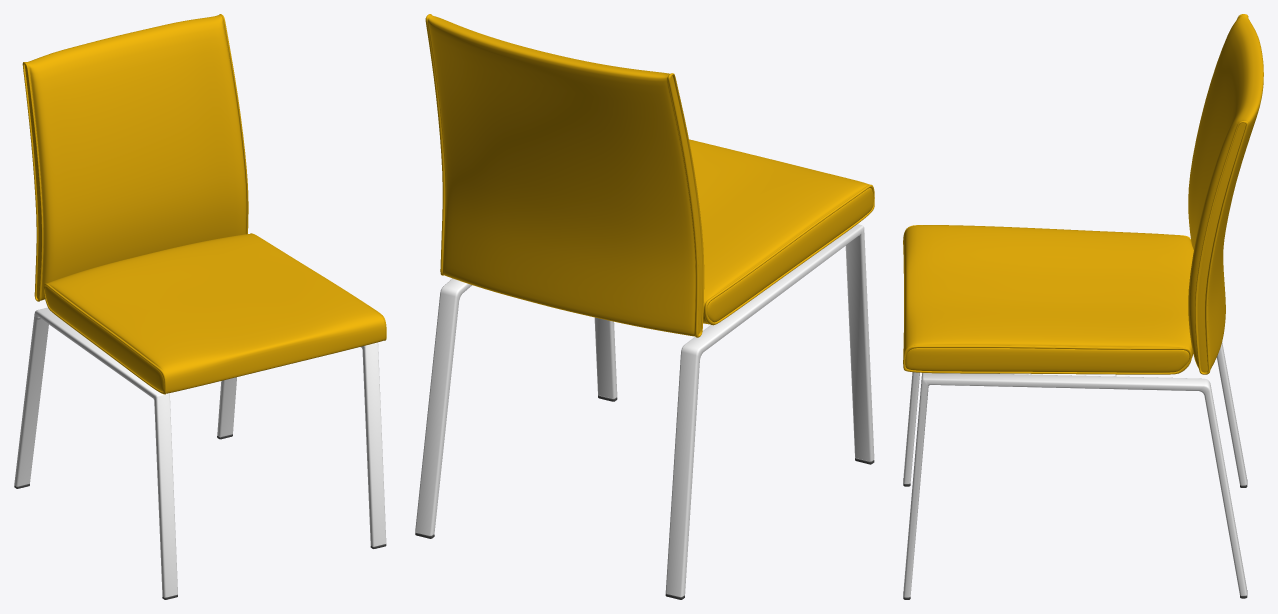
File: yizi.fbx
3 views of the same model, side by side, from view 1: azimuth 30°, elevation 25°; view 2: azimuth 150°, elevation 25°; view 3: azimuth 270°, elevation 25° (orthographic). The views are drawn at different scales.
Parts seen in each view (by area): view 1: obj_03, obj_05, obj_06, obj_07; view 2: obj_03, obj_05, obj_06, obj_07; view 3: obj_05, obj_03, obj_07, obj_06.
Boxes of the visible parts, x1,y1,x2,y2 form: obj_03: (22,14,248,301); obj_05: (43,233,386,394); obj_06: (14,307,177,597); obj_07: (217,342,386,546); obj_03: (425,14,704,337); obj_05: (689,139,874,325); obj_06: (665,224,874,597); obj_07: (415,278,617,535); obj_05: (903,225,1193,374); obj_03: (1188,14,1263,374); obj_07: (903,373,1246,597); obj_06: (903,342,1246,485).
Size of the model in its own units: 7.77 by 14.04 by 9.72.
